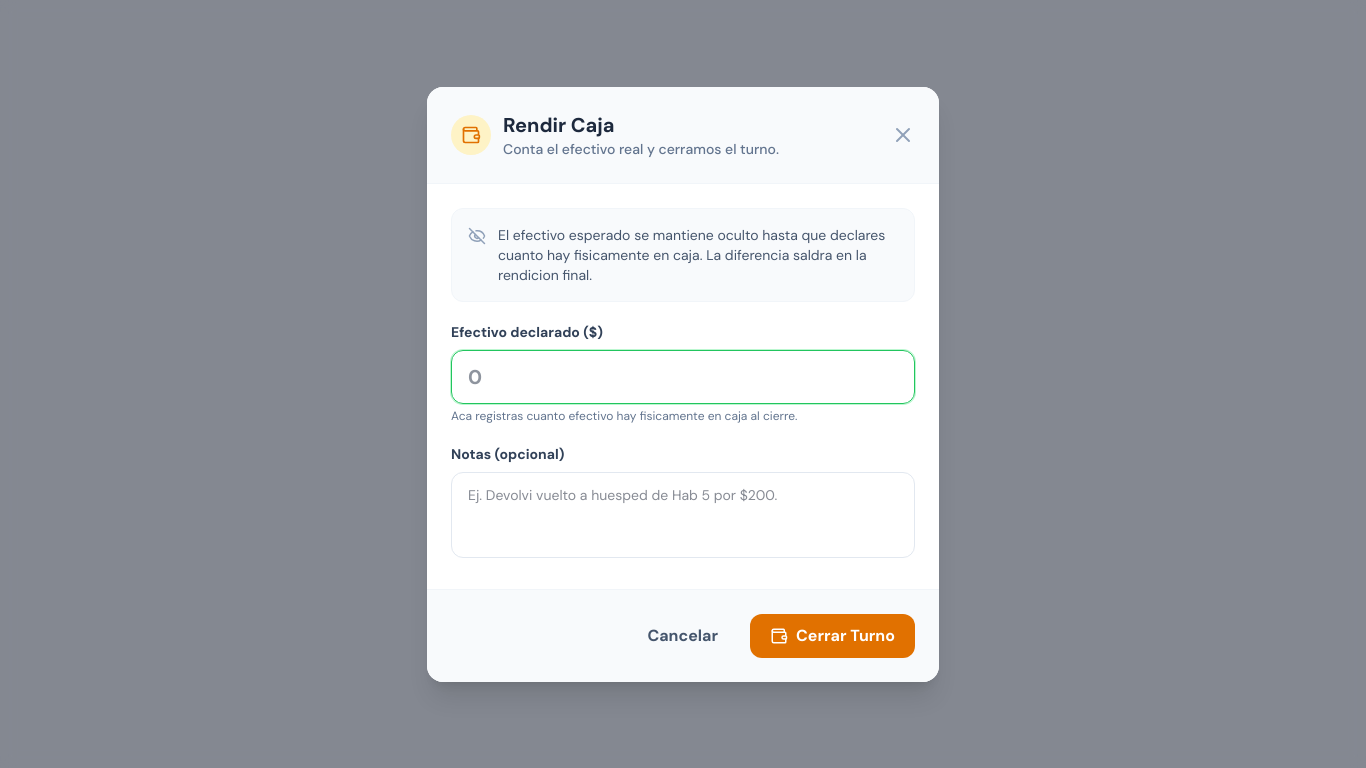
it: CloseShiftModal — arqueo a ciegas › Enter no envía: pide confirmar el monto en grande
The width and height of the screenshot is (1366, 768).
Type "43.700" into the field labelled "Efectivo declarado ($)" at (683, 376), box [451, 350, 915, 404]
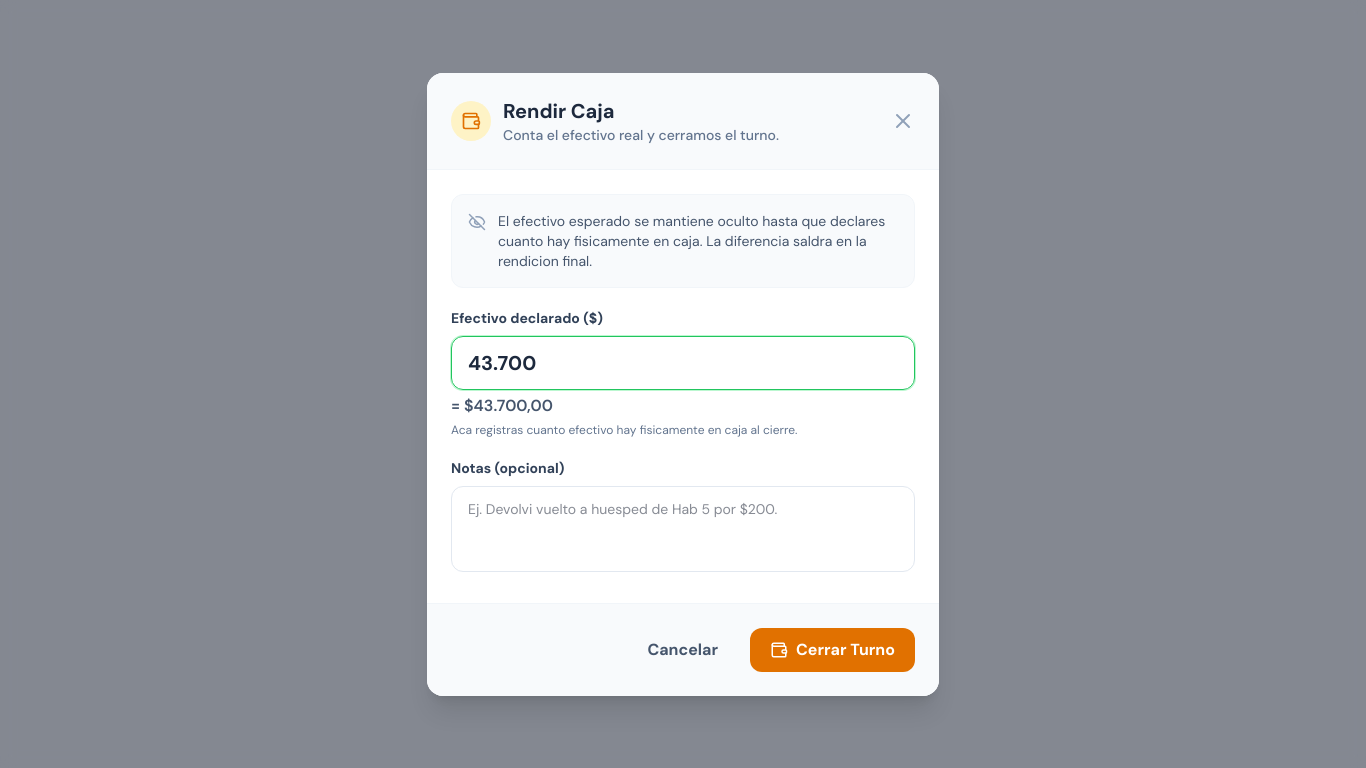
Submit the form named "Efectivo declarado ($)", box [427, 170, 939, 602]
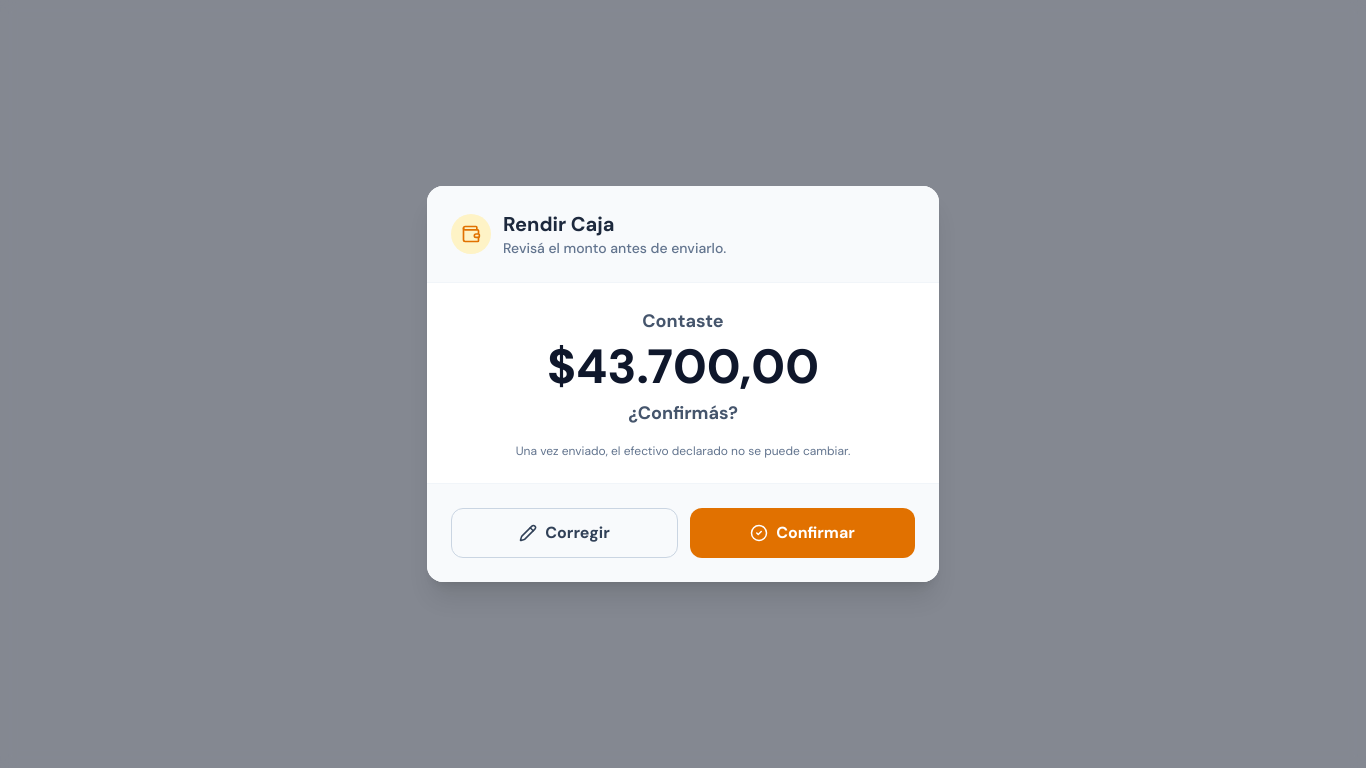
expect the text "$43.700,00" is shown: met, box [547, 335, 819, 398]
expect the text "¿Confirmás?" is shown: met, box [628, 401, 738, 425]
